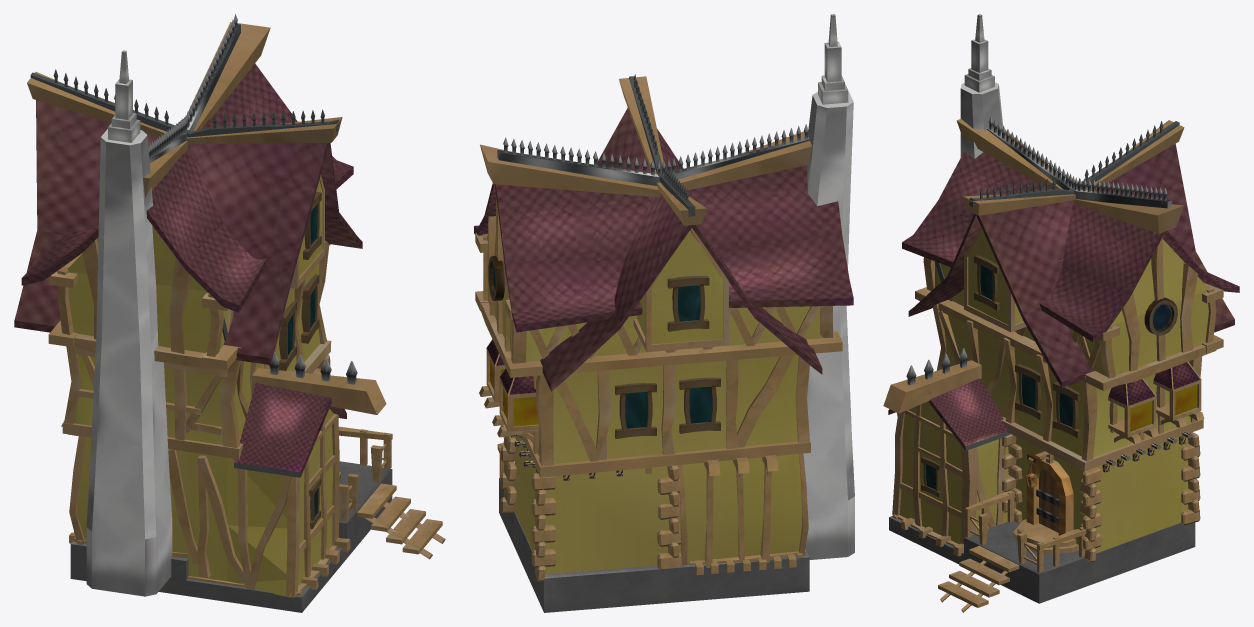
Rendered from german_village_german_house_2.glb.
3 views of the same model, side by side, from view 1: azimuth 30°, elevation 25°; view 2: azimuth 150°, elevation 25°; view 3: azimuth 270°, elevation 25° (orthographic). The views are drawn at different scales.
Visible parts, largest first — view 1: Box082_Material #89_0; view 2: Box082_Material #89_0; view 3: Box082_Material #89_0.
Part boxes in pixels (x1,y1,x2,y2): Box082_Material #89_0: (14,14,445,612); Box082_Material #89_0: (474,14,854,612); Box082_Material #89_0: (883,14,1239,612).
Size of the model in its own units: 5.34 by 7.56 by 5.17.
Materials: 1 (1 with a texture image).
